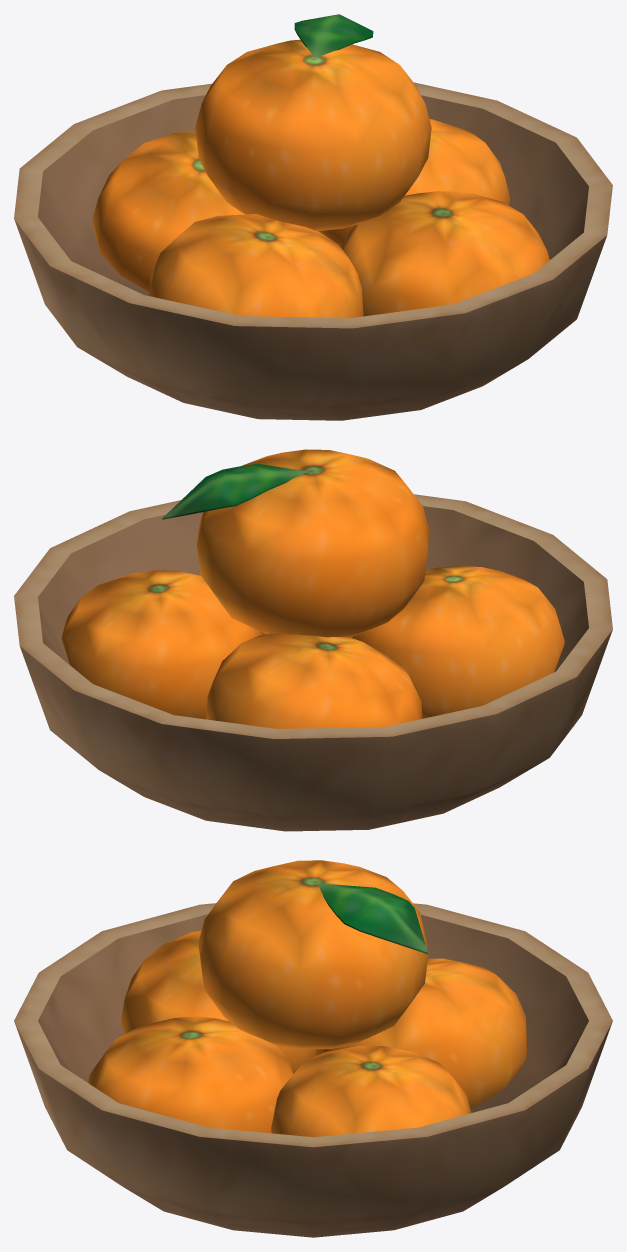
Rendered from MandarinOrangeBasket_HD.fbx.
3 views of the same model, one above another, from view 1: azimuth 30°, elevation 25°; view 2: azimuth 150°, elevation 25°; view 3: azimuth 270°, elevation 25° (orthographic).
Parts seen in each view (by area): view 1: MandarinOrangeBasket; view 2: MandarinOrangeBasket; view 3: MandarinOrangeBasket.
Boxes of the visible parts, <box> form: MandarinOrangeBasket: <box>14,14,612,420</box>; MandarinOrangeBasket: <box>14,449,612,831</box>; MandarinOrangeBasket: <box>14,860,612,1237</box>.
Size of the model in its own units: 0.3694 by 0.1856 by 0.3694.
